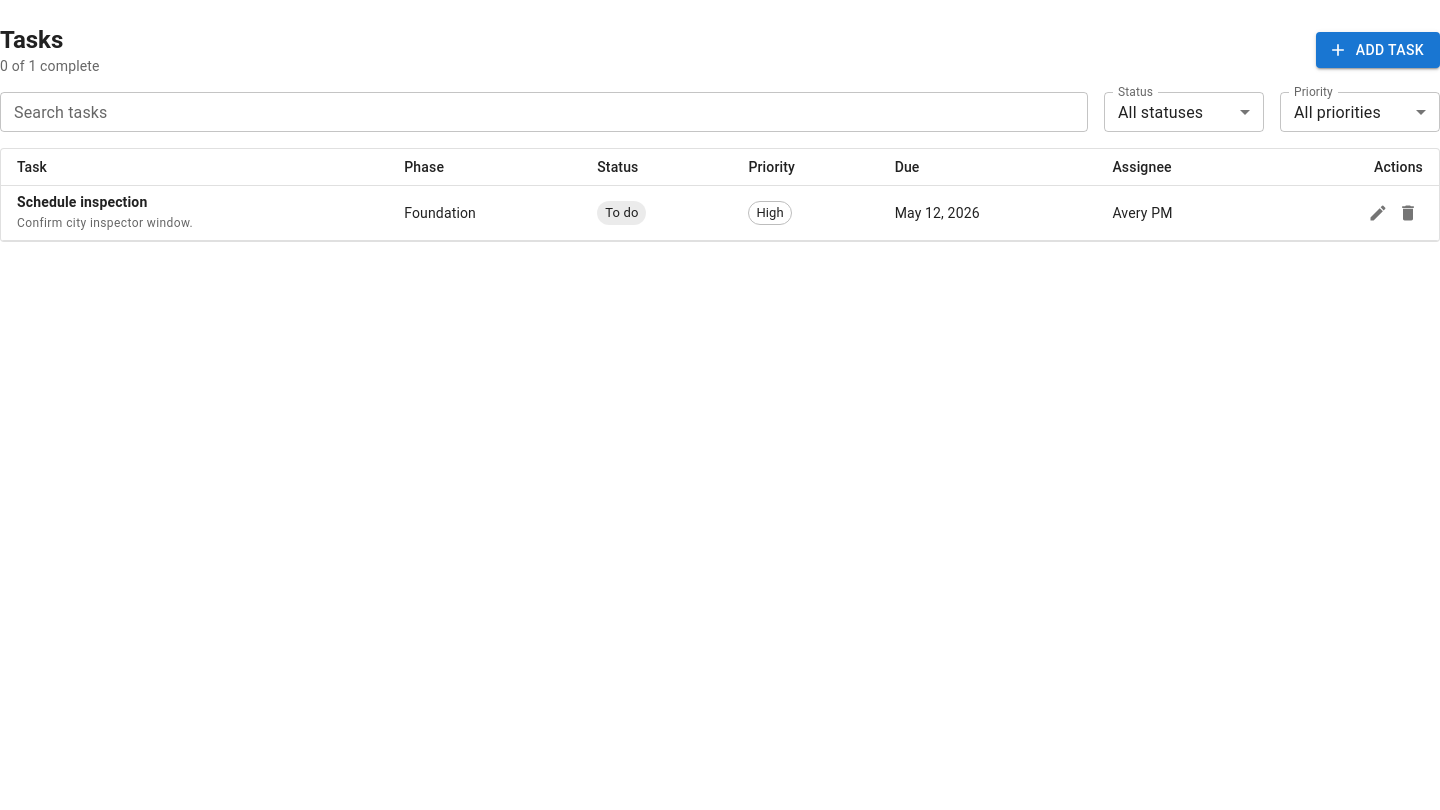
it: ProjectTaskManager › updates an existing task
Click the button named "edit schedule inspection" at (1378, 213), box [1363,198,1393,228]
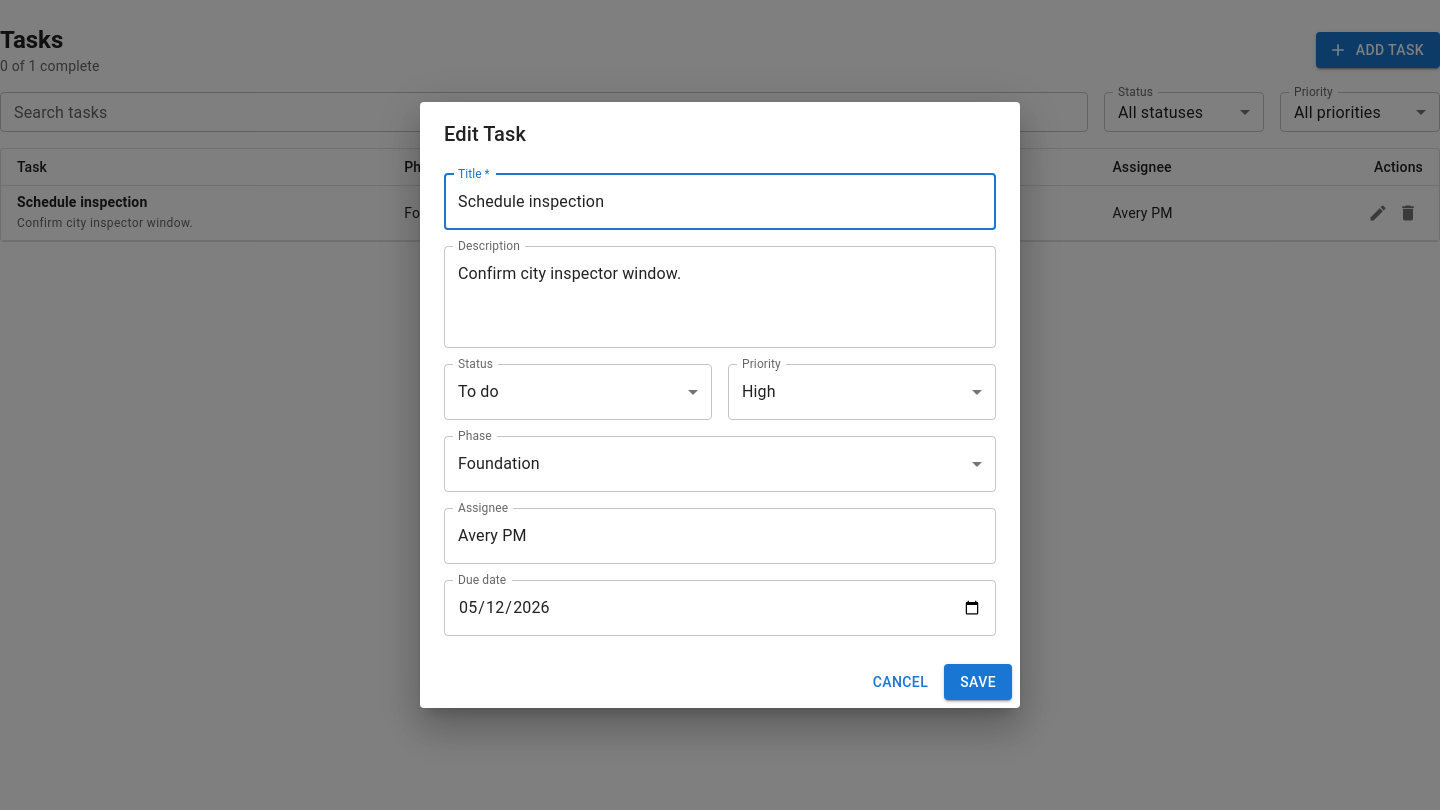
Replace the text in the field labelled "Title *" with "Schedule final inspection" at (720, 202), box [444,174,996,230]
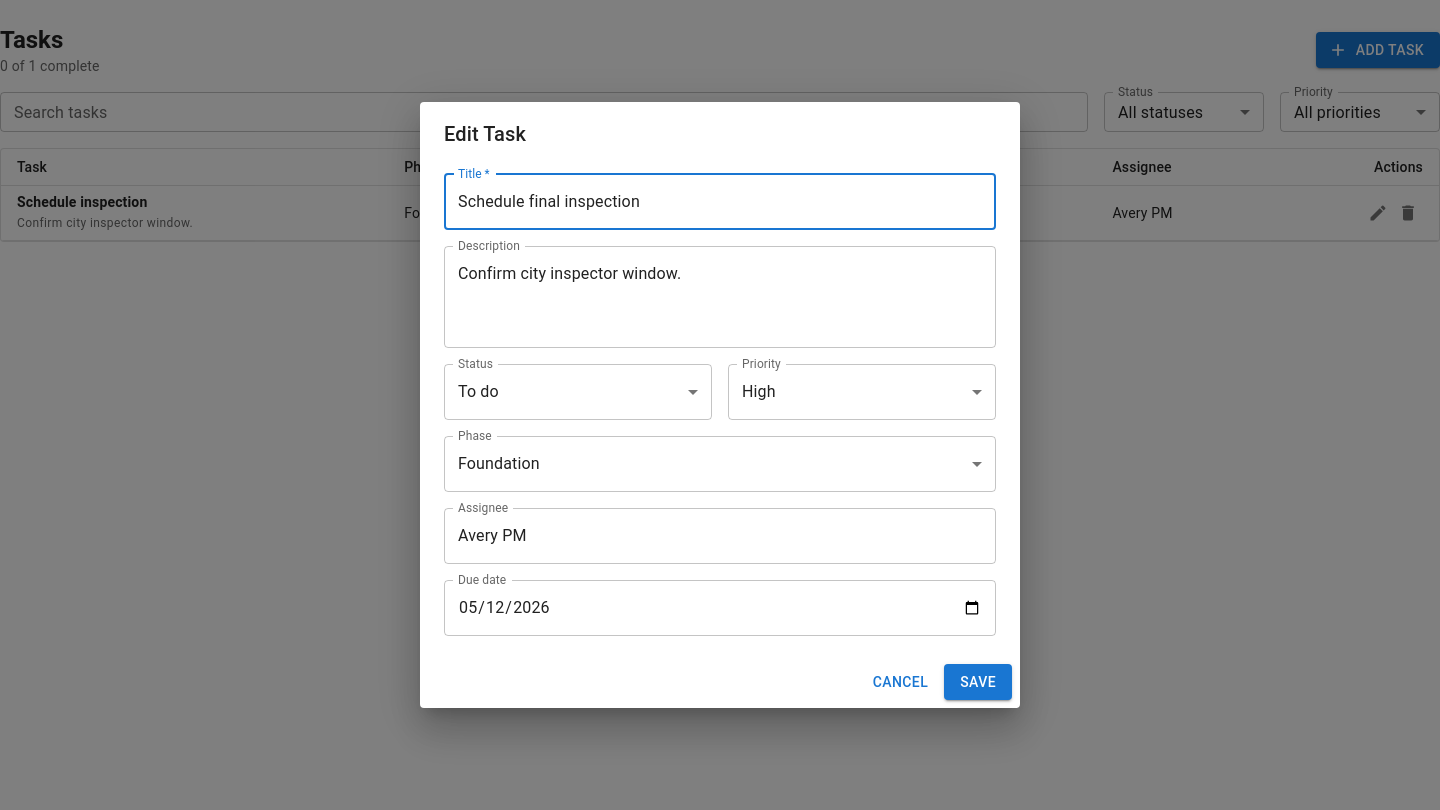
Click the dropdown named "status" at (478, 392), box [458,382,499,401]
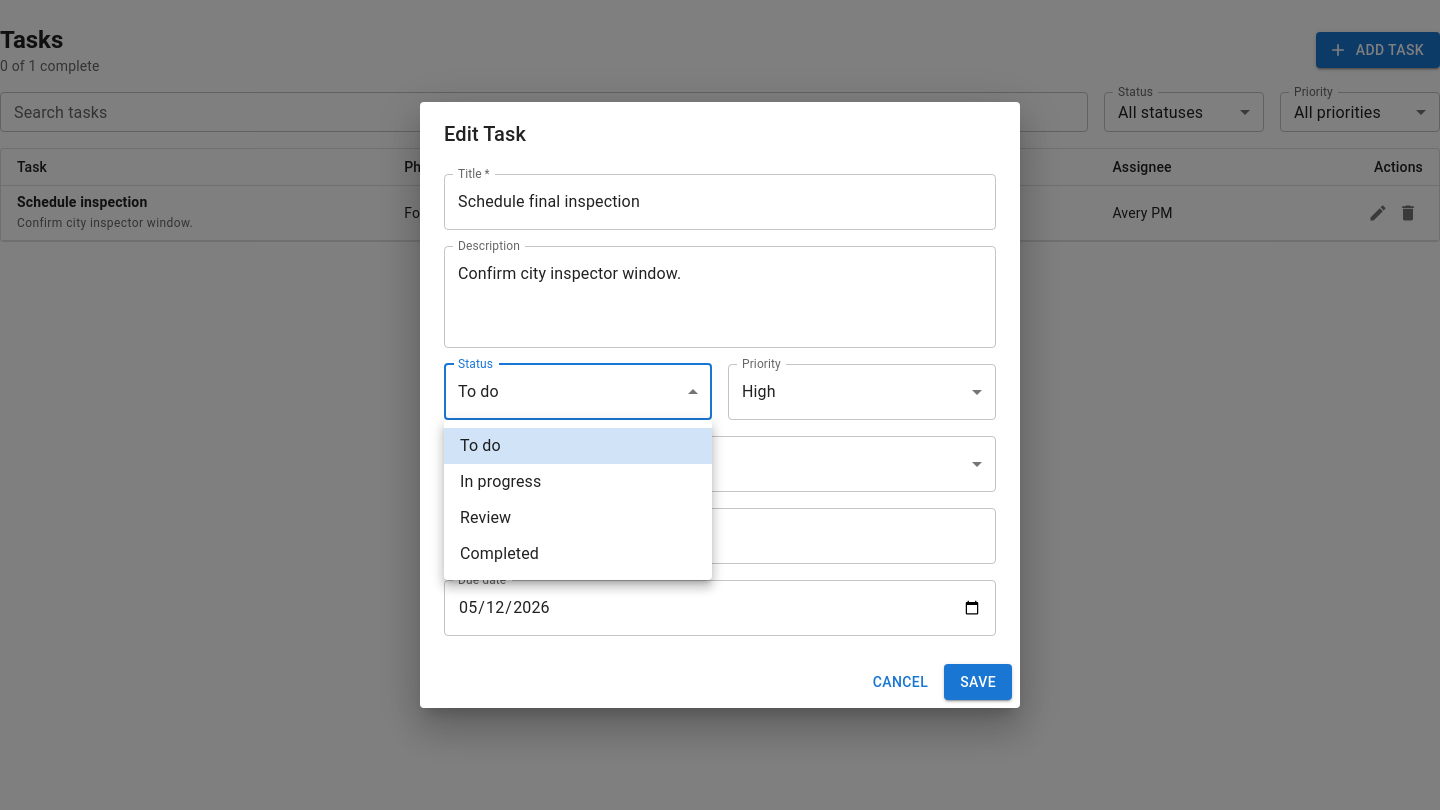
Click the option "Completed" at (500, 554), box [460,544,539,563]
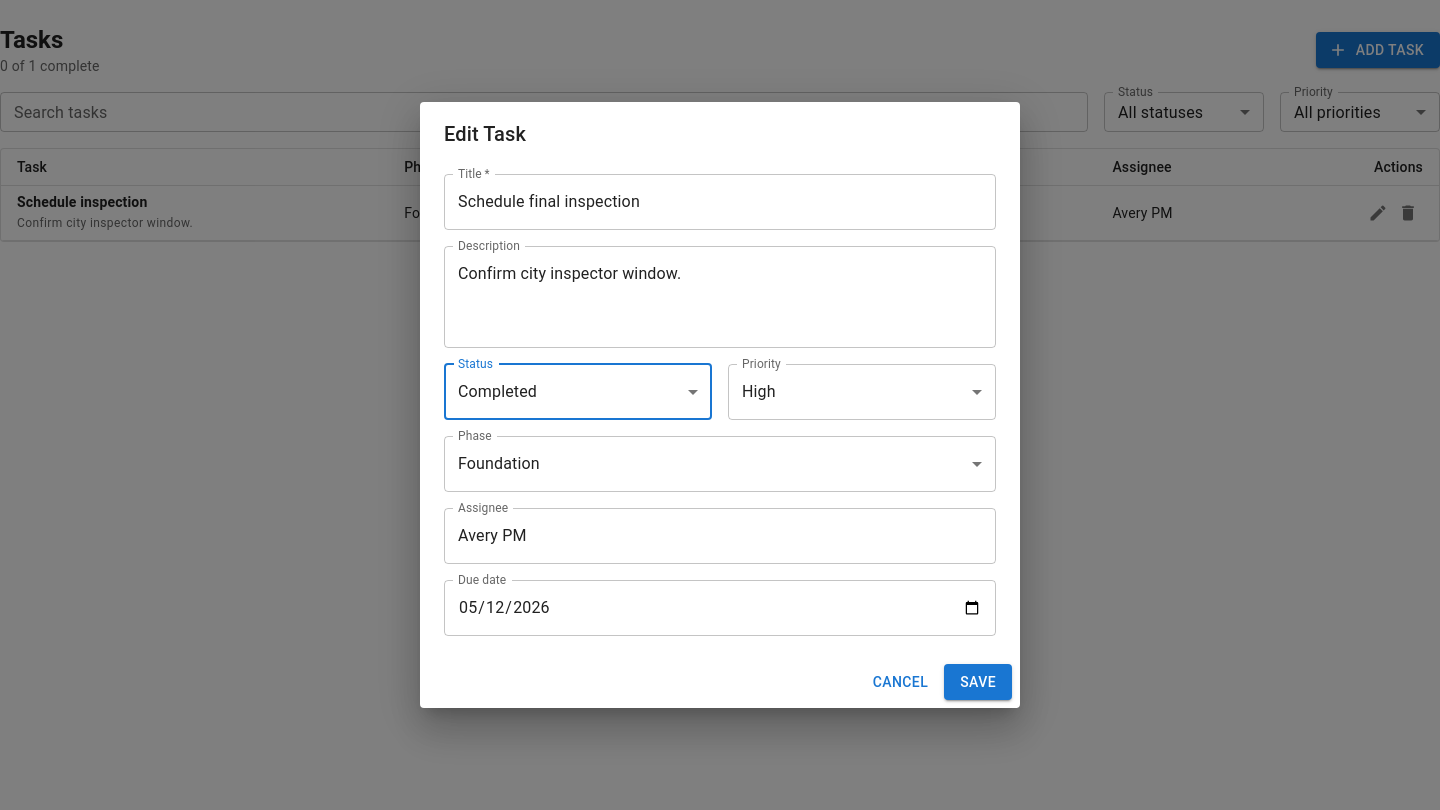
Click the button "Save" at (978, 682), box [944,664,1012,700]
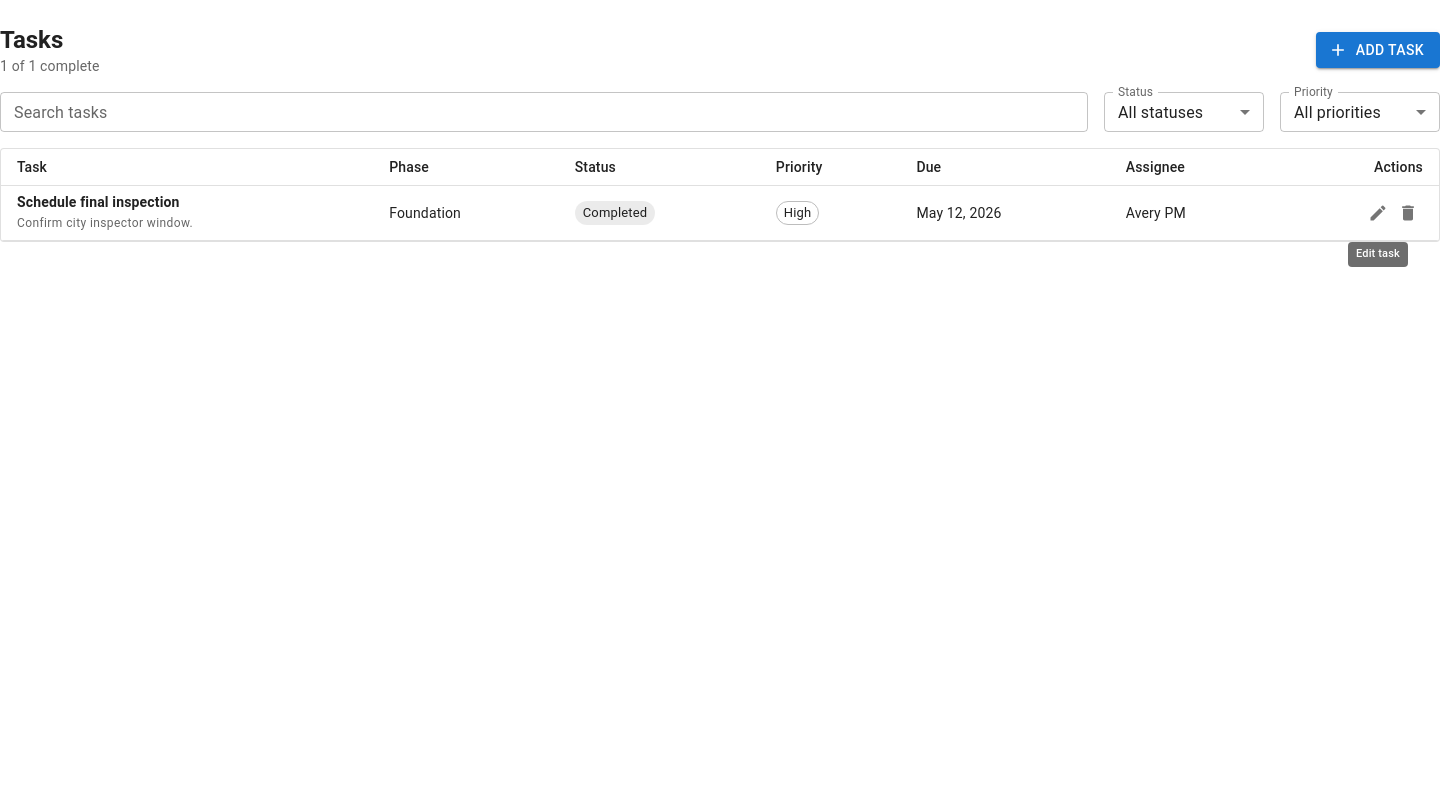
Expected: the text "Schedule final inspection" is shown, [17,194,180,210]
Expected: the text "1 of 1 complete" is shown, [0,56,100,76]
